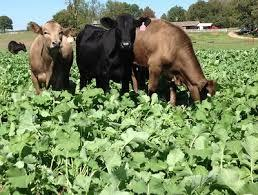cow: (132, 19, 215, 106), (75, 14, 151, 95), (29, 19, 74, 94), (7, 39, 27, 55)
